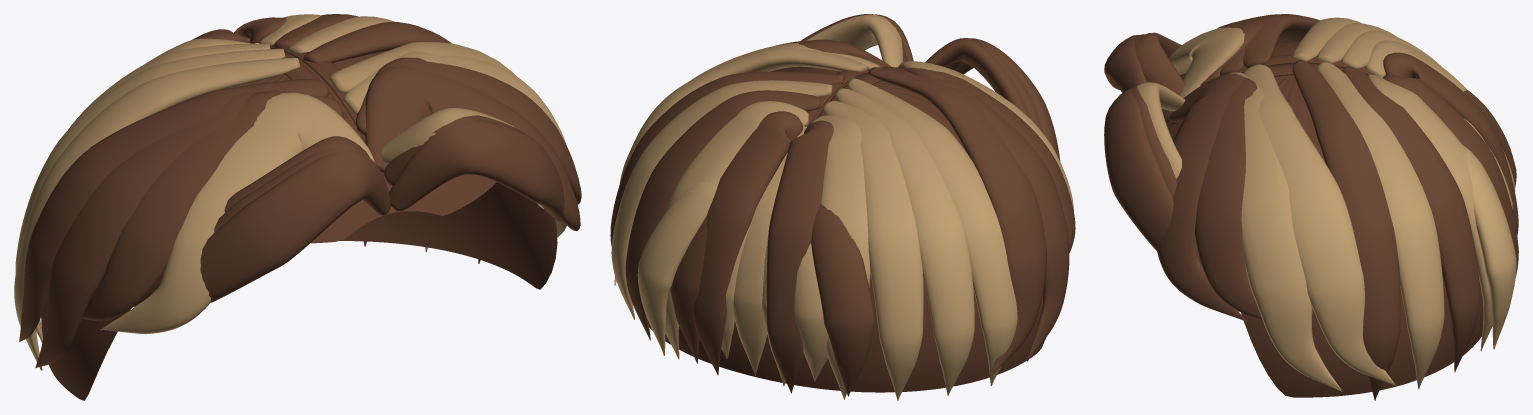
File: Highlights-e80f89bdc27d251-hair.glb
3 views of the same model, side by side, from view 1: azimuth 30°, elevation 25°; view 2: azimuth 150°, elevation 25°; view 3: azimuth 270°, elevation 25° (orthographic). The views are drawn at different scales.
Visible parts, largest first — view 1: 226 hair / Hair / chestnut226.002, 226 hair / Hair / recessed roots251.002, 226 hair / Hair / main251.001, 226 hair / Hair / accent251.001, 226 hair / Hair / recessed roots251.003; view 2: 226 hair / Hair / main251.001, 226 hair / Hair / accent251.001, 226 hair / Hair / chestnut226.002, 226 hair / Hair / recessed roots251.002, 226 hair / Hair / recessed roots251.003; view 3: 226 hair / Hair / chestnut226.002, 226 hair / Hair / main251.001, 226 hair / Hair / accent251.001, 226 hair / Hair / recessed roots251.002, 226 hair / Hair / recessed roots251.003.
Part boxes in pixels (x1,y1,x2,y2): 226 hair / Hair / chestnut226.002: (19,42,581,368); 226 hair / Hair / recessed roots251.002: (41,51,557,400); 226 hair / Hair / main251.001: (14,14,480,370); 226 hair / Hair / accent251.001: (15,14,427,343); 226 hair / Hair / recessed roots251.003: (270,45,384,176); 226 hair / Hair / main251.001: (610,71,1017,400); 226 hair / Hair / accent251.001: (611,80,974,399); 226 hair / Hair / chestnut226.002: (614,14,1075,377); 226 hair / Hair / recessed roots251.002: (648,68,1045,392); 226 hair / Hair / recessed roots251.003: (806,69,880,126); 226 hair / Hair / chestnut226.002: (1104,14,1395,391); 226 hair / Hair / main251.001: (1292,17,1518,400); 226 hair / Hair / accent251.001: (1317,23,1516,389); 226 hair / Hair / recessed roots251.002: (1166,42,1483,397); 226 hair / Hair / recessed roots251.003: (1171,54,1373,125).
Size of the model in its own units: 1.07 by 0.5895 by 0.8758.
